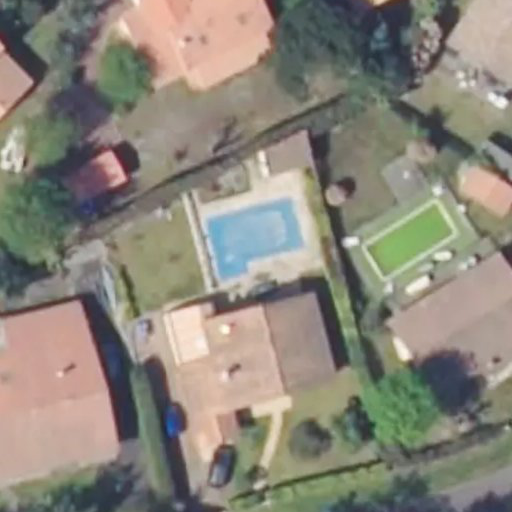pool: (202, 191, 309, 279), (361, 198, 458, 282)
